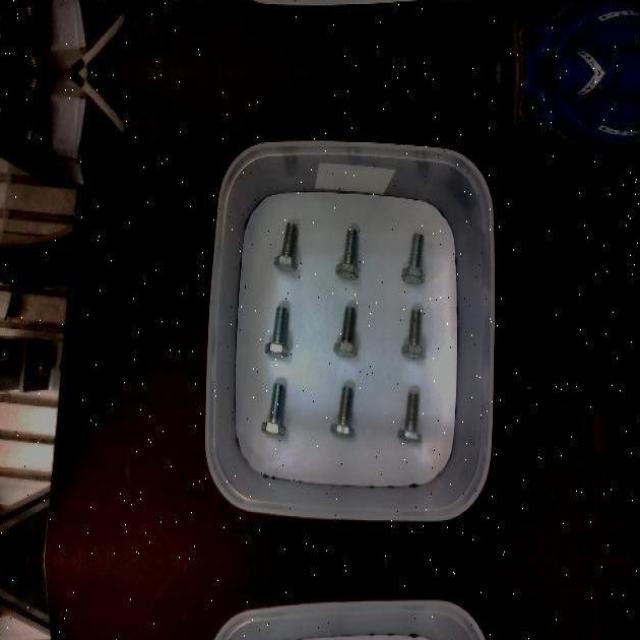screw: (273, 220, 299, 272), (397, 391, 423, 443), (400, 232, 425, 286), (401, 306, 426, 359), (261, 383, 286, 436), (334, 228, 359, 280), (264, 306, 289, 358), (333, 306, 358, 357), (329, 385, 354, 436)
